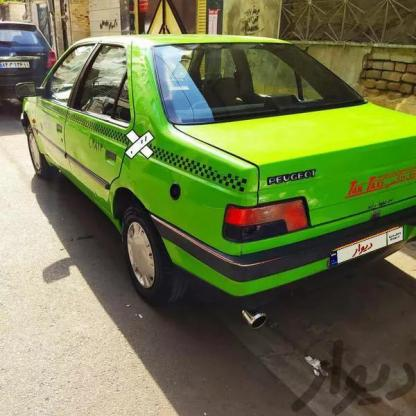Car: (15, 34, 416, 320), (0, 28, 76, 105)
